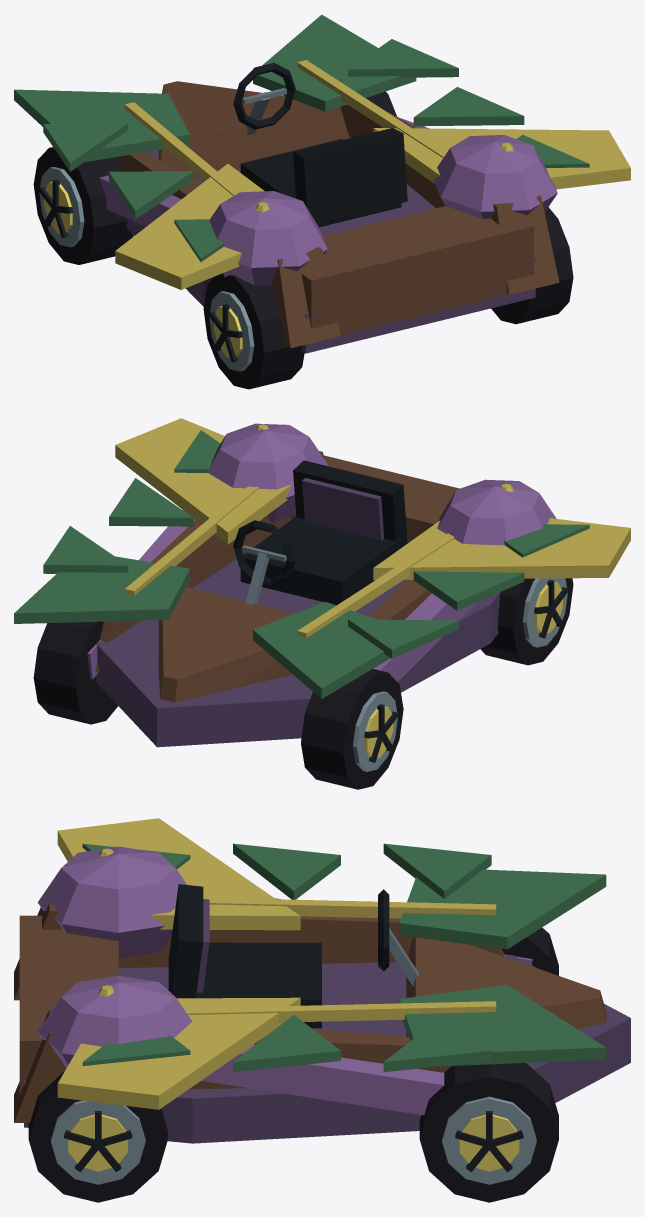
File: kart.glb
3 views of the same model, one above another, from view 1: azimuth 30°, elevation 25°; view 2: azimuth 150°, elevation 25°; view 3: azimuth 270°, elevation 25° (orthographic). The views are drawn at different scales.
Parts seen in each view (by area): view 1: identity-nature-nature-root-cradle-and-leaf-bow, identity-nature-motif-wings, identity-nature-driver-cockpit, identity-nature-motif-leaves, wheel-rear-left, wheel-front-left, wheel-rear-right; view 2: identity-nature-nature-root-cradle-and-leaf-bow, identity-nature-driver-cockpit, identity-nature-motif-wings, identity-nature-motif-leaves, wheel-front-left, wheel-front-right, wheel-rear-left; view 3: identity-nature-nature-root-cradle-and-leaf-bow, identity-nature-motif-wings, identity-nature-motif-leaves, wheel-front-right, identity-nature-driver-cockpit, wheel-rear-right, wheel-front-left.
Boxes of the visible parts, x1,y1,x2,y2 form: identity-nature-nature-root-cradle-and-leaf-bow: [14, 14, 559, 353]; identity-nature-motif-wings: [115, 128, 630, 289]; identity-nature-driver-cockpit: [233, 63, 407, 227]; identity-nature-motif-leaves: [43, 39, 589, 261]; wheel-rear-left: [203, 273, 304, 389]; wheel-front-left: [33, 147, 133, 264]; wheel-rear-right: [491, 207, 573, 324]; identity-nature-nature-root-cradle-and-leaf-bow: [14, 423, 556, 747]; identity-nature-driver-cockpit: [233, 460, 407, 605]; identity-nature-motif-wings: [115, 418, 630, 580]; identity-nature-motif-leaves: [43, 430, 589, 658]; wheel-front-left: [301, 669, 403, 789]; wheel-front-right: [33, 621, 117, 724]; wheel-rear-left: [480, 578, 573, 665]; identity-nature-nature-root-cradle-and-leaf-bow: [14, 846, 630, 1143]; identity-nature-motif-wings: [57, 818, 300, 1109]; identity-nature-motif-leaves: [82, 843, 491, 1072]; wheel-front-right: [419, 1063, 558, 1202]; identity-nature-driver-cockpit: [168, 884, 418, 1028]; wheel-rear-right: [28, 1071, 167, 1202]; wheel-front-left: [501, 927, 558, 975].
Bounding box in the file's own units: 2.92 × 1.09 × 2.75.
